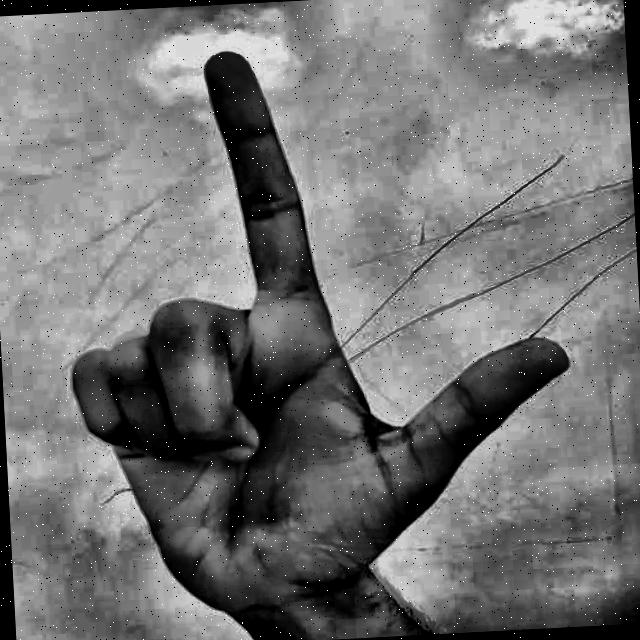La: (11, 9, 598, 640)
